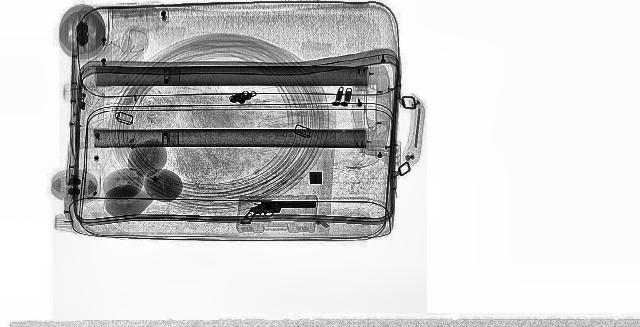Gun: (239, 201, 317, 225)
